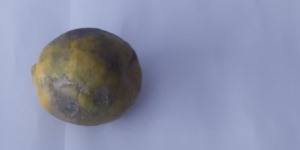BAD: (30, 28, 142, 132)
